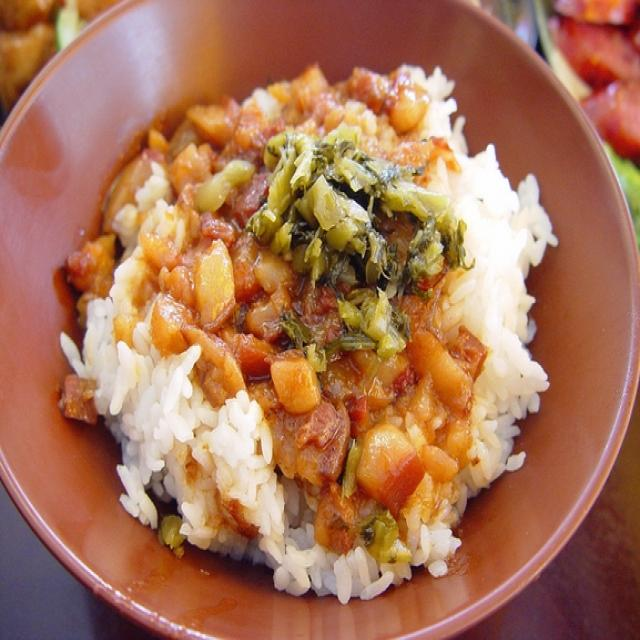猪肉菜式: (1, 2, 633, 631)
